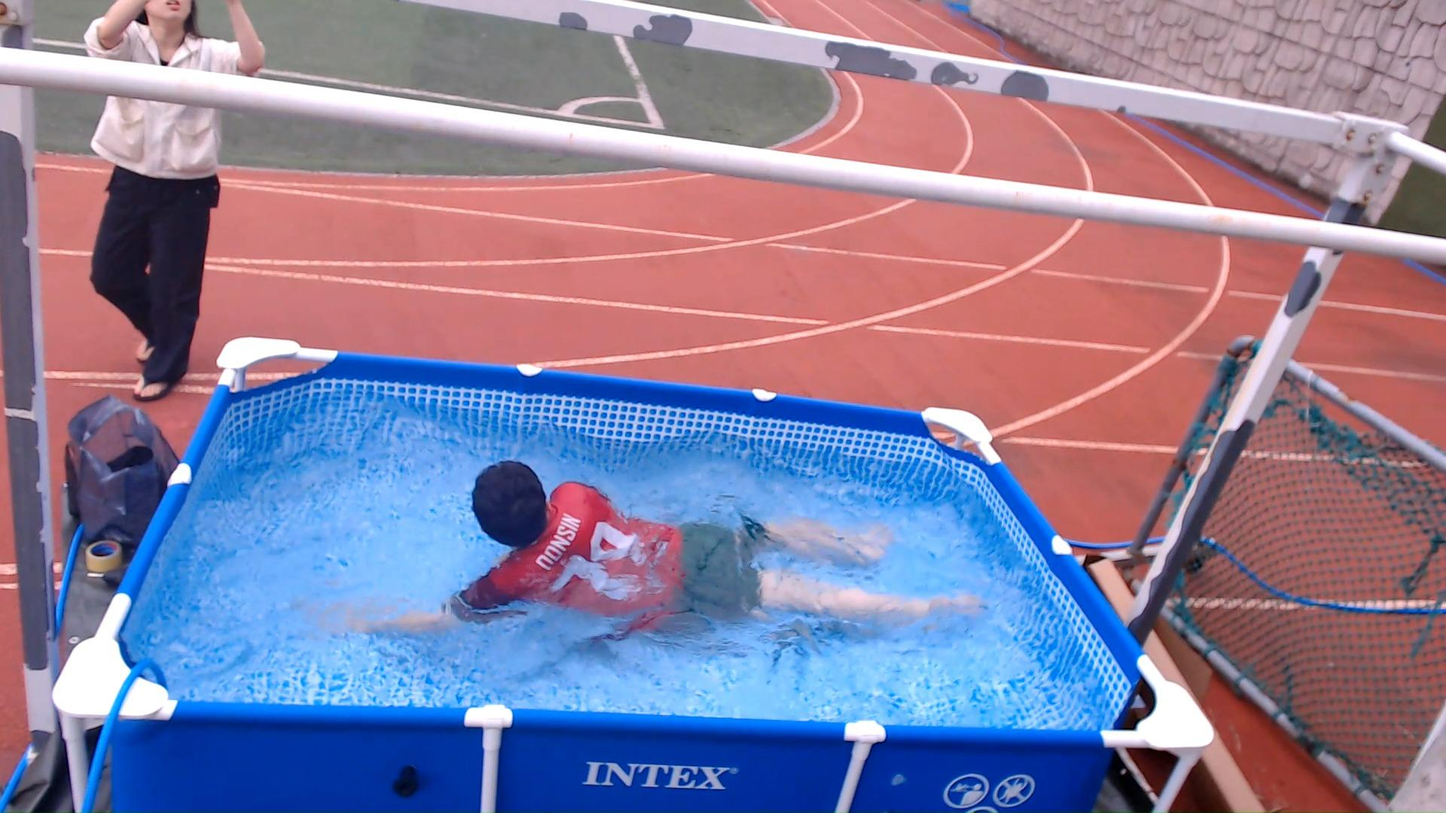Swimming: (296, 393, 990, 672)
